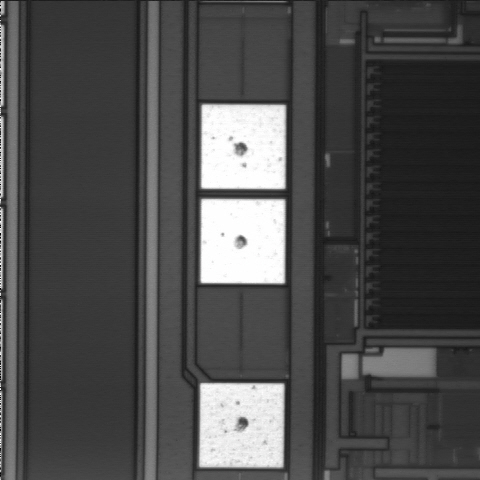pad: (201, 105, 286, 189), (200, 199, 285, 283), (199, 383, 284, 467)
